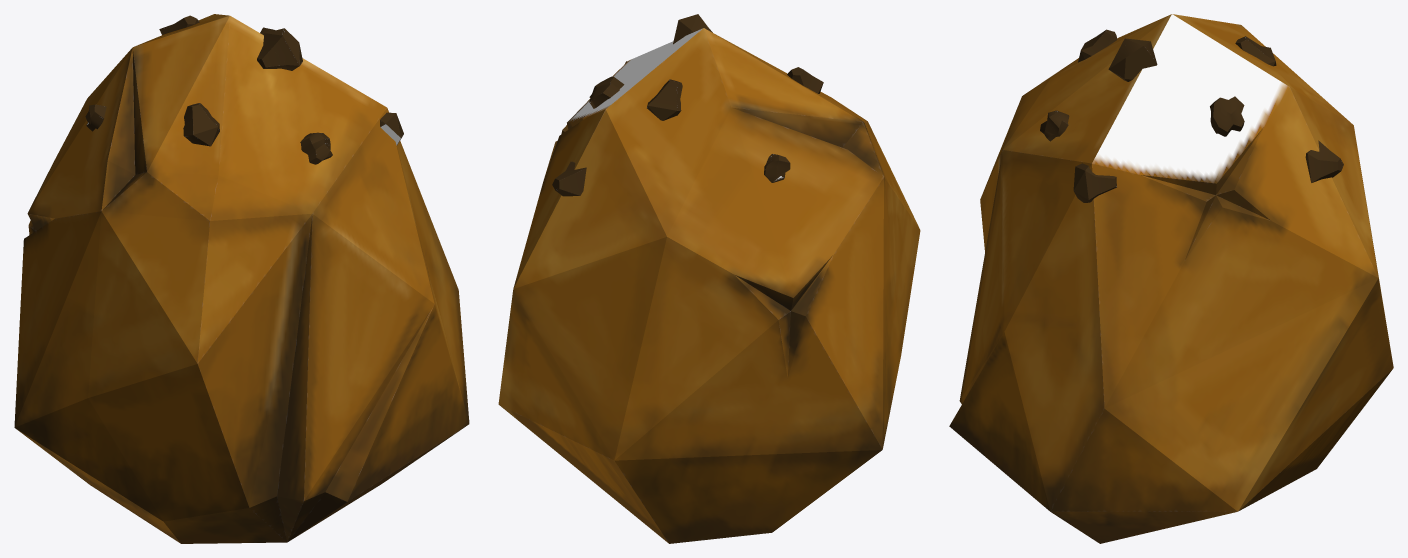
Rendered from BrackyRock.fbx.
3 renders of one model, left to right at view 1: azimuth 30°, elevation 25°; view 2: azimuth 150°, elevation 25°; view 3: azimuth 270°, elevation 25°, orthographic. The views are drawn at different scales.
Visible parts, largest first — view 1: Cookie, Chunks; view 2: Cookie, Chunks; view 3: Cookie, Chunks.
Part boxes in pixels (x1,y1,x2,y2): Cookie: (14, 14, 469, 543); Chunks: (85, 15, 403, 164); Cookie: (498, 28, 920, 543); Chunks: (552, 14, 823, 196); Cookie: (949, 14, 1393, 543); Chunks: (1040, 29, 1343, 202).
Bounding box in the file's own units: 201 × 229 × 195.
2 materials, 2 textured.
